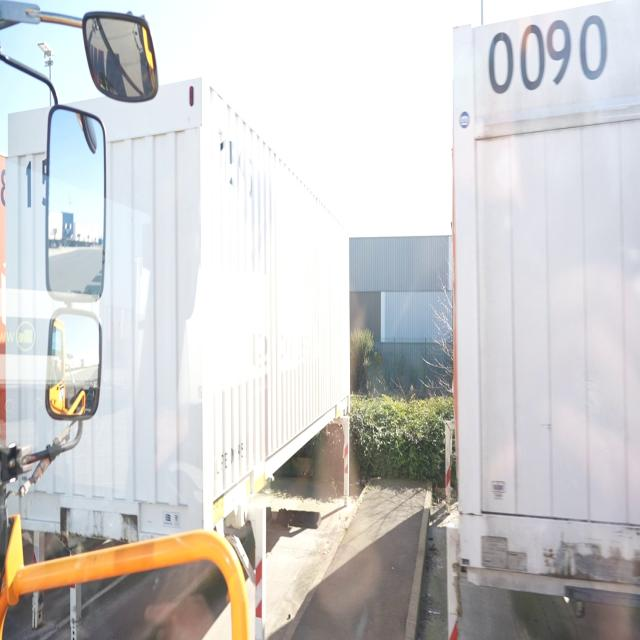Code: (477, 10, 612, 97)
